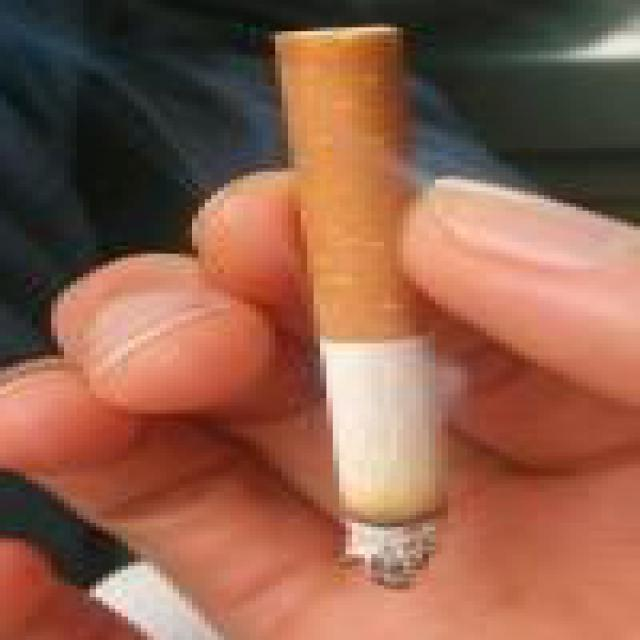smoking: (278, 23, 451, 590)
